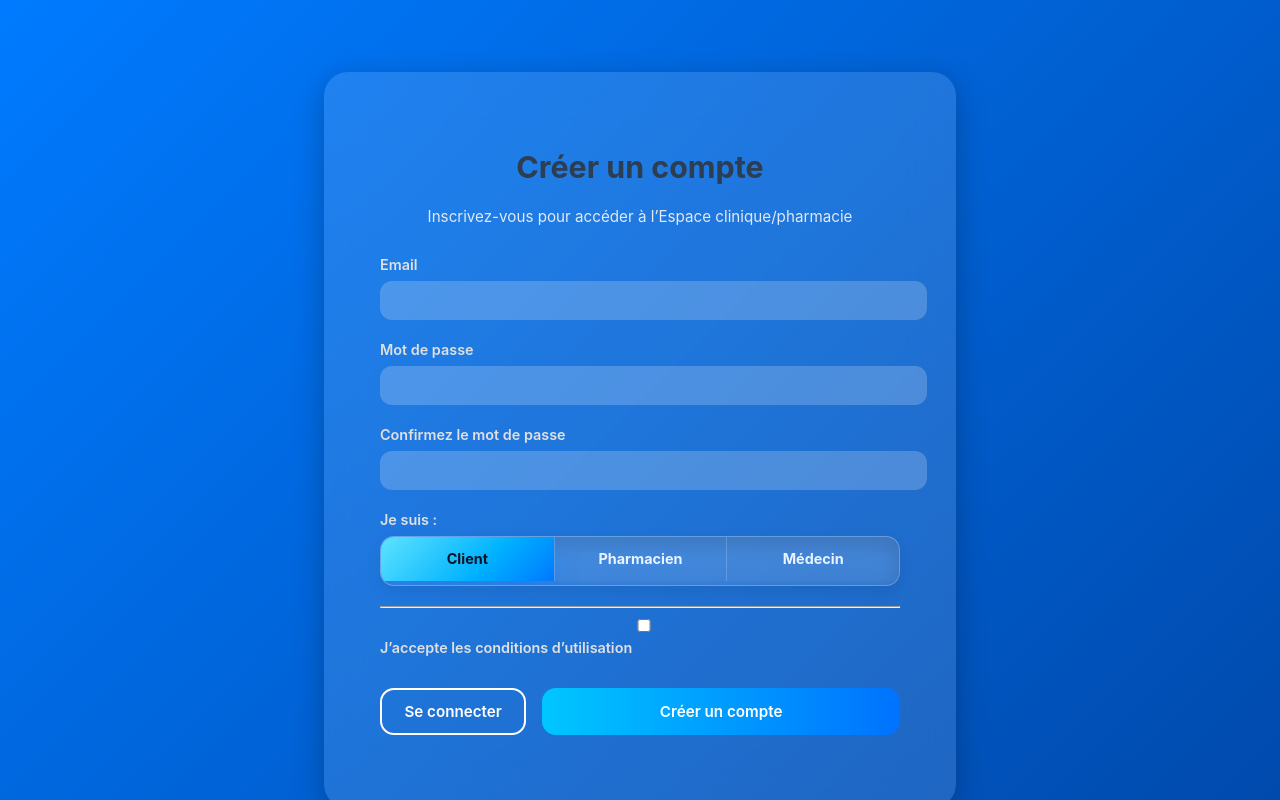
Test: Signup page › affiche une erreur si le mot de passe est trop court
The width and height of the screenshot is (1280, 800).
Step 1. Type "test@test.com" into the field labelled "Email" → (654, 300), box [380,281,927,320]
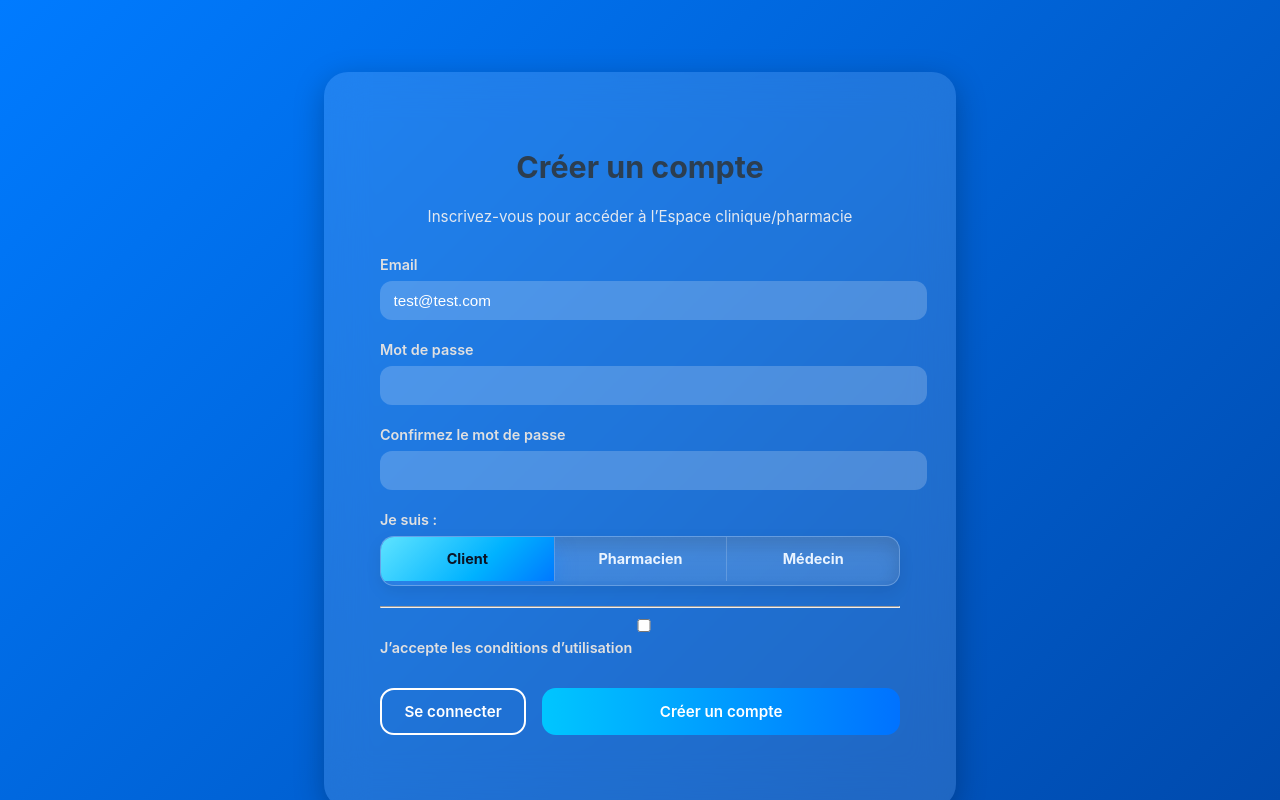
Step 2. Type "123" into the password field labelled "Mot de passe" → (654, 385), box [380,366,927,405]
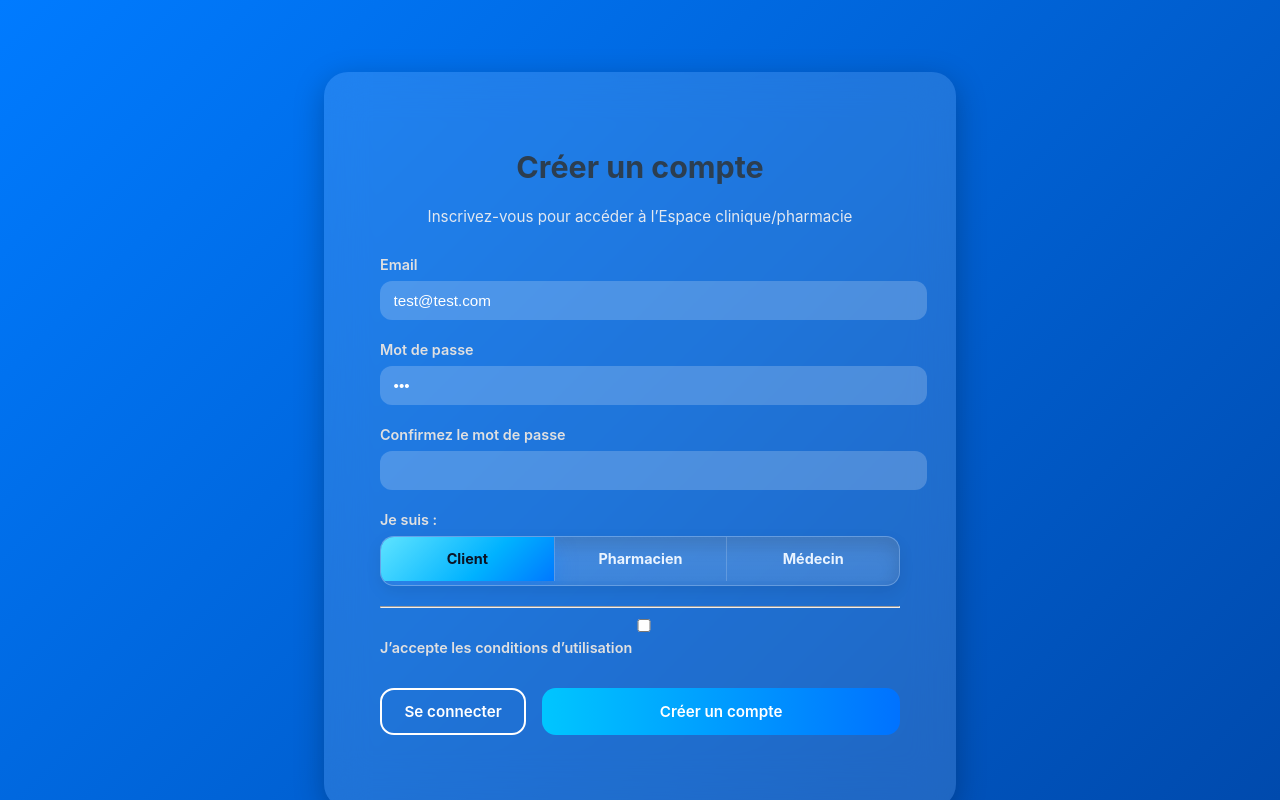
Step 3. Type "123" into the password field labelled "Confirmez le mot de passe" → (654, 470), box [380,451,927,490]
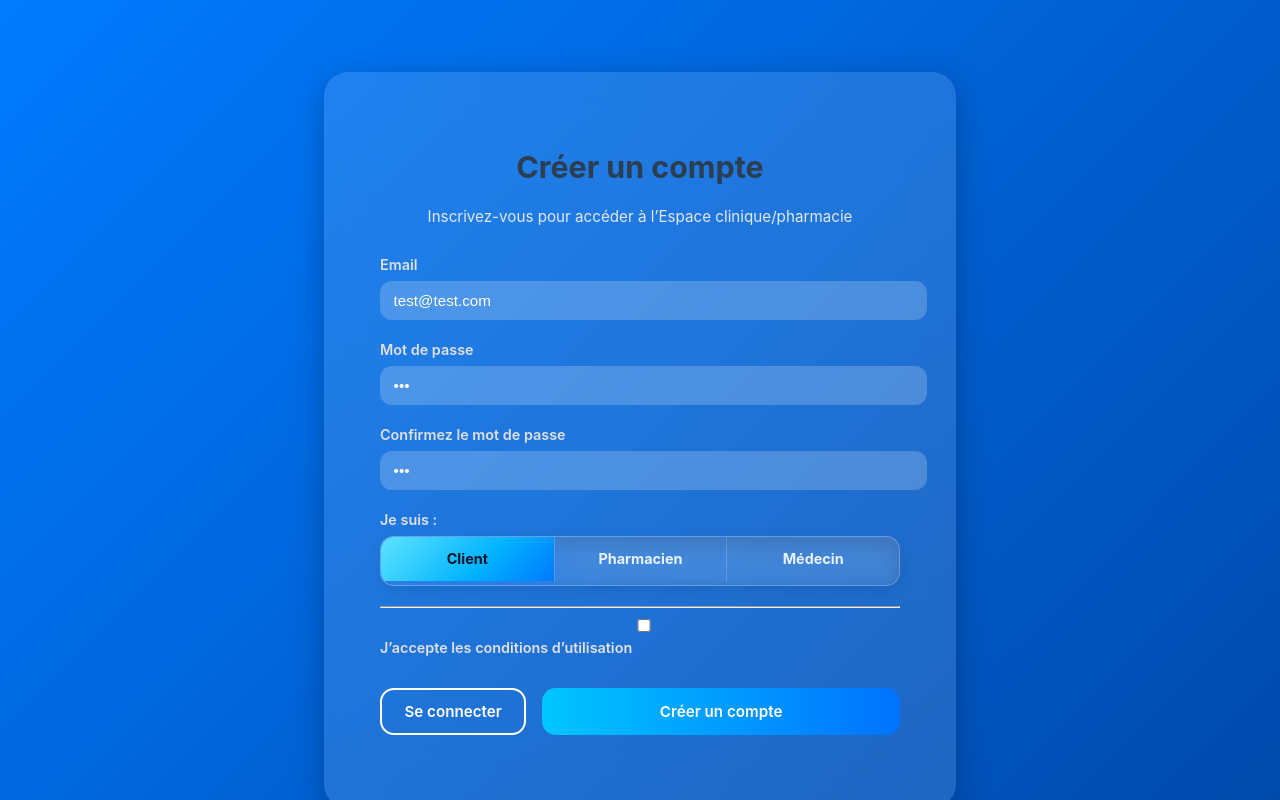
Step 4. Click the checkbox labelled "J’accepte les conditions d’utilisation" → (644, 625), box [384,618,904,632]
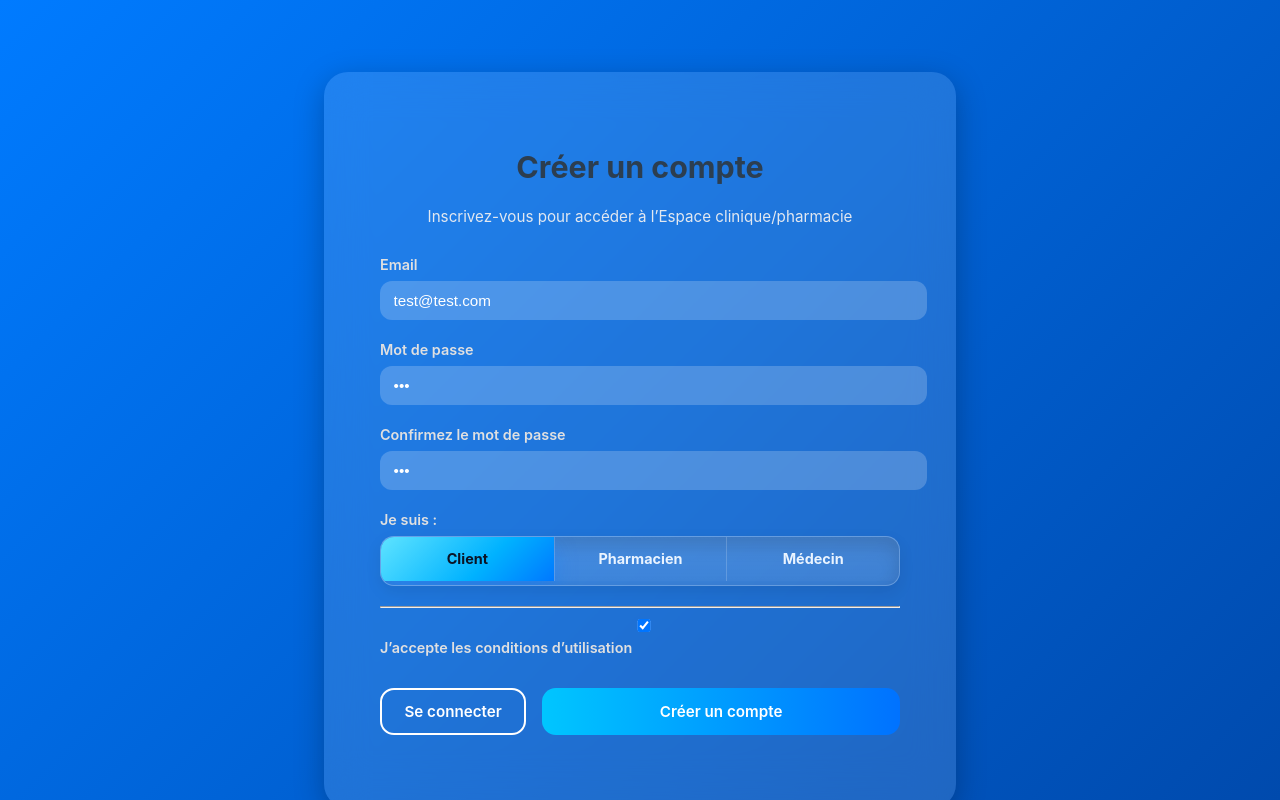
Step 5. Click the button "Créer un compte" → (721, 711), box [542,688,900,734]
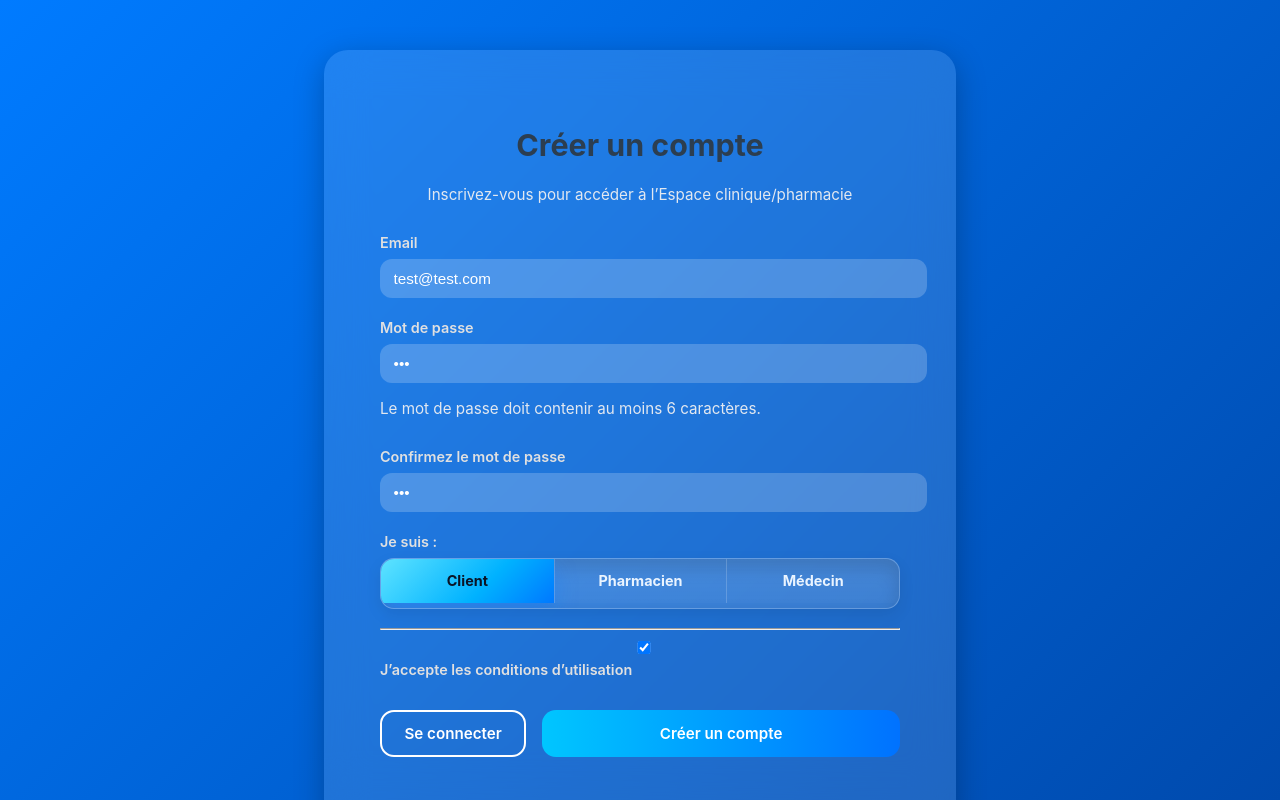
Result: the text "Le mot de passe doit contenir au moins 6 caractères." is shown at [380,399,761,418]
